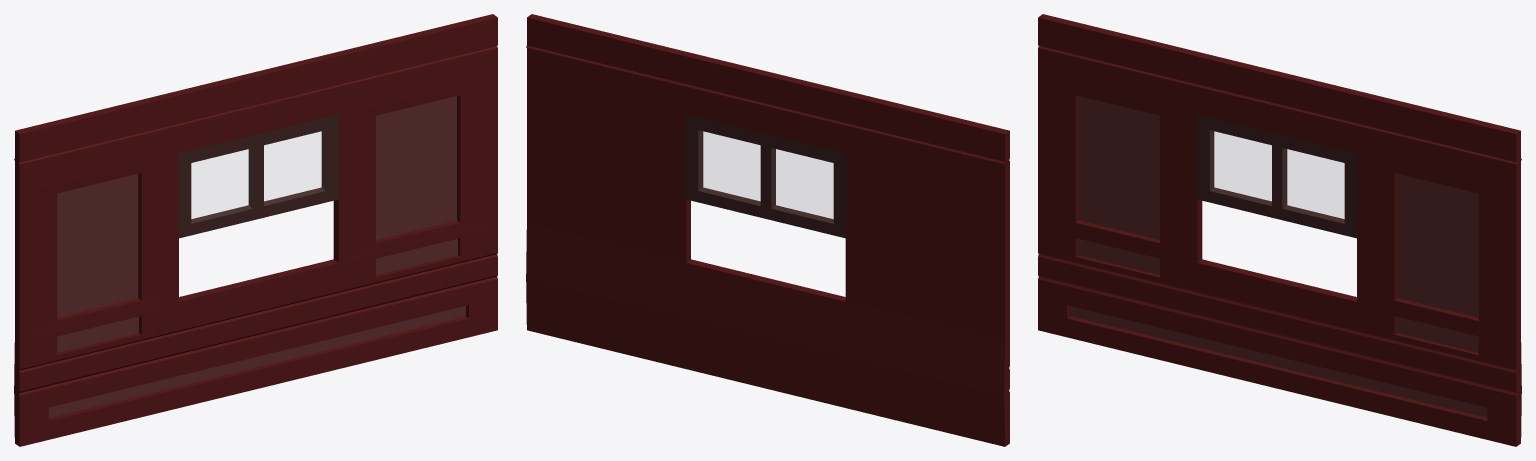
The model's file is WallWithWindow.fbx.
3 views of the same model, side by side, from view 1: azimuth 30°, elevation 25°; view 2: azimuth 150°, elevation 25°; view 3: azimuth 330°, elevation 25° (orthographic).
Parts seen in each view (by area): view 1: WallWithWindow; view 2: WallWithWindow; view 3: WallWithWindow.
Part boxes in pixels (bbox=[...]): WallWithWindow: bbox=[14, 14, 497, 446]; WallWithWindow: bbox=[526, 14, 1009, 446]; WallWithWindow: bbox=[1038, 14, 1521, 446].
Size of the model in its own units: 4 by 2.5 by 0.0827.
